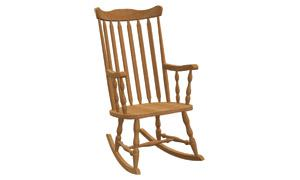chair: (67, 5, 219, 172)
